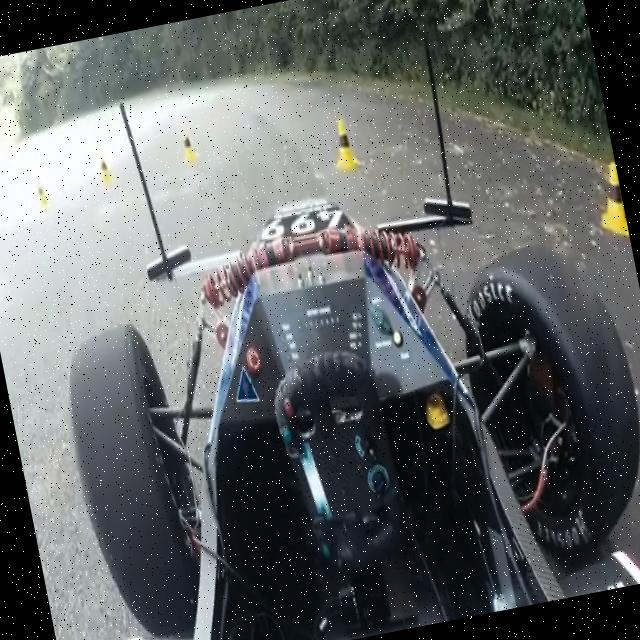yellow_cone: (580, 142, 632, 252), (321, 103, 368, 177), (165, 111, 205, 160), (86, 140, 118, 182), (24, 168, 54, 212)
